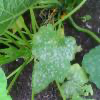Squash Powdery mildew leaf: (31, 23, 78, 93)
